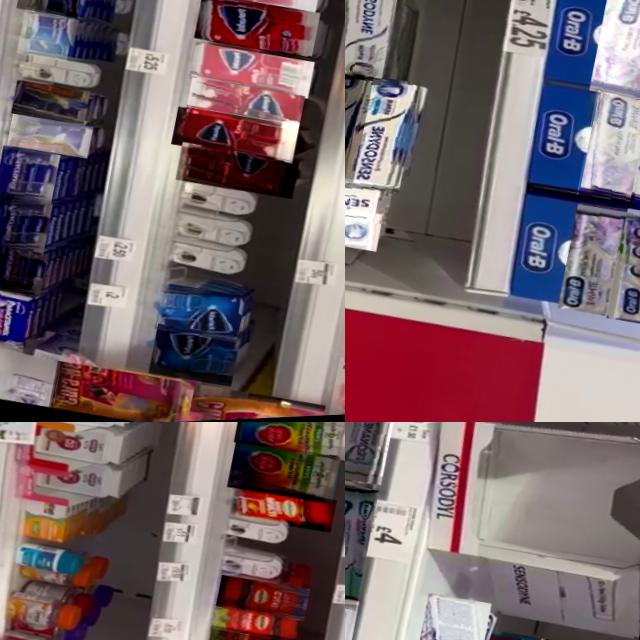Other: (42, 356, 178, 422), (168, 105, 297, 172), (224, 438, 338, 511), (186, 41, 313, 106), (172, 141, 297, 207), (182, 76, 303, 138), (144, 324, 238, 393), (149, 282, 243, 349), (30, 447, 128, 508), (182, 381, 322, 422), (232, 484, 334, 540), (24, 422, 130, 475), (230, 422, 345, 468), (212, 574, 307, 627), (0, 585, 84, 639), (4, 112, 91, 163), (8, 78, 88, 130), (16, 553, 93, 603), (0, 144, 58, 208), (14, 6, 74, 65), (205, 603, 297, 640), (6, 537, 78, 582), (0, 193, 50, 257), (22, 491, 72, 548), (0, 243, 45, 299), (32, 422, 136, 442), (0, 284, 31, 350), (323, 358, 345, 419), (201, 627, 292, 640), (0, 629, 74, 640)
Toothpaste: (553, 206, 633, 324), (345, 74, 419, 196), (571, 90, 640, 211), (601, 210, 640, 334), (345, 480, 378, 615), (401, 594, 490, 640), (345, 145, 390, 234), (345, 422, 403, 490), (345, 66, 372, 186)
